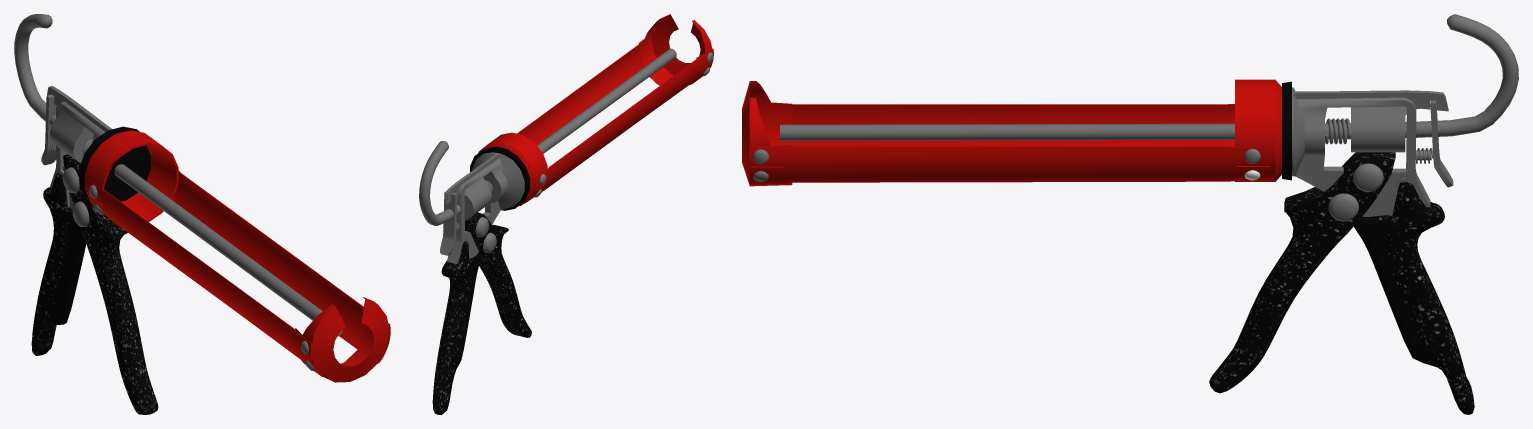
File: ghermetik_pistol33.fbx
3 views of the same model, side by side, from view 1: azimuth 30°, elevation 25°; view 2: azimuth 150°, elevation 25°; view 3: azimuth 270°, elevation 25° (orthographic). The views are drawn at different scales.
Parts seen in each view (by area): view 1: Cylinder.001; view 2: Cylinder.001; view 3: Cylinder.001.
Boxes of the visible parts, x1,y1,x2,y2 form: Cylinder.001: [14, 14, 390, 414]; Cylinder.001: [419, 14, 713, 414]; Cylinder.001: [742, 14, 1518, 414].
Size of the model in its own units: 272 by 1053 by 1860.
1 material, 1 textured.
